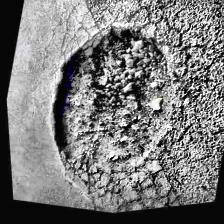pothole: (33, 9, 185, 174)
